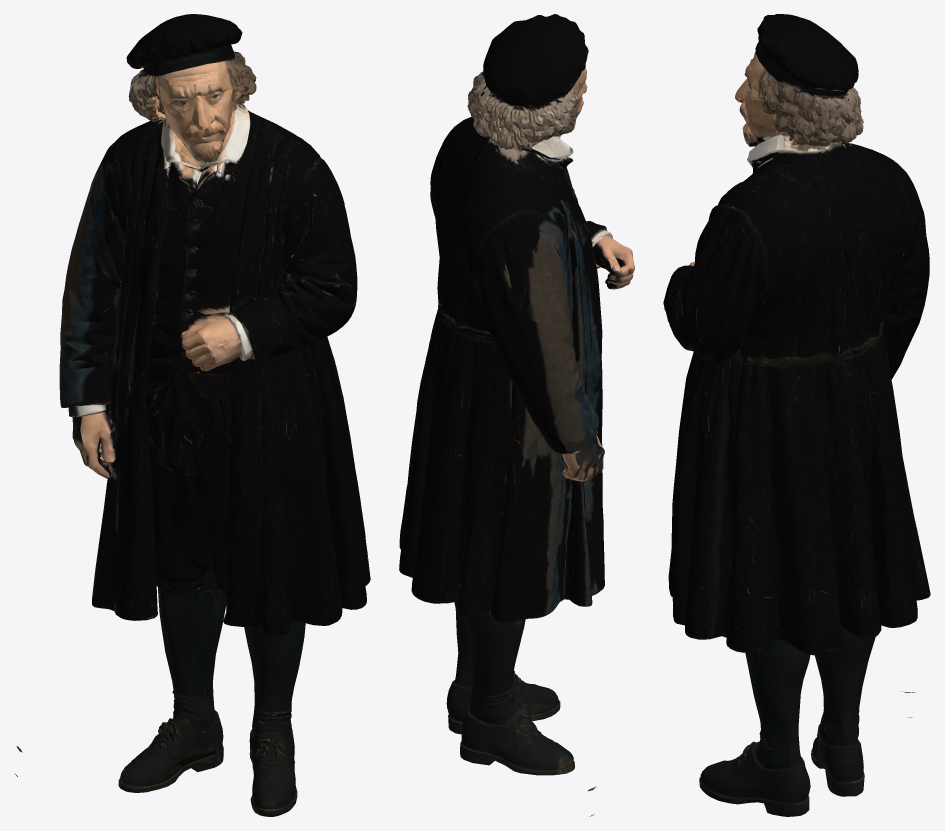
File: vermeer_standing.glb
3 views of the same model, side by side, from view 1: azimuth 30°, elevation 25°; view 2: azimuth 150°, elevation 25°; view 3: azimuth 270°, elevation 25° (orthographic). The views are drawn at different scales.
Visible parts, largest first — view 1: output_unwrapped.001; view 2: output_unwrapped.001; view 3: output_unwrapped.001.
Part boxes in pixels (box(x1,y1,x2,y2)): output_unwrapped.001: box(14, 14, 370, 816); output_unwrapped.001: box(399, 14, 634, 816); output_unwrapped.001: box(663, 14, 930, 816).
Bounding box in the file's own units: 0.555 × 1.55 × 0.4985.
1 material, 1 textured.
